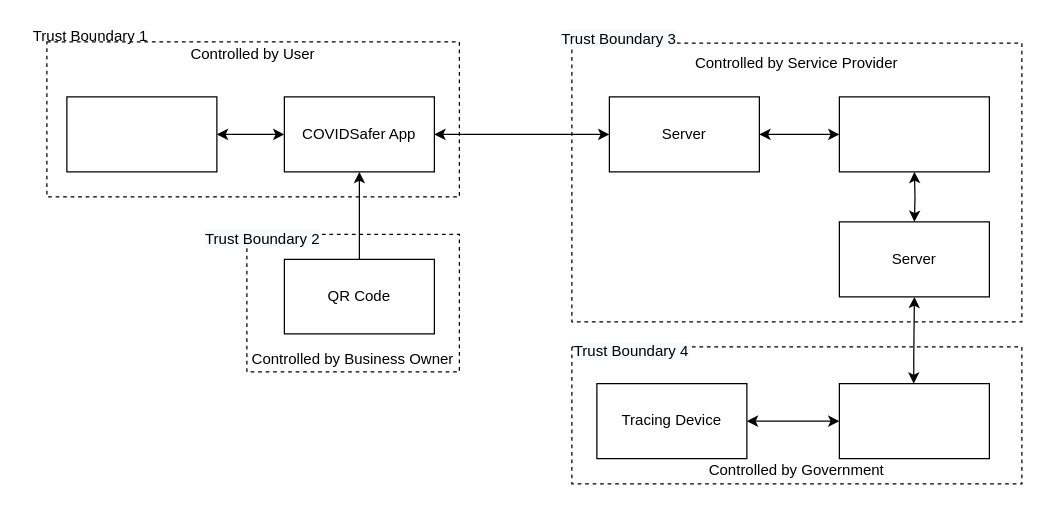
This 1044x516 diagram has some shape labels left out. The centre of each missing label's shape, as x and y in pixels:
Central Database: pixel 913 134
Tracing Portal: pixel 913 420
User Device: pixel 141 134
